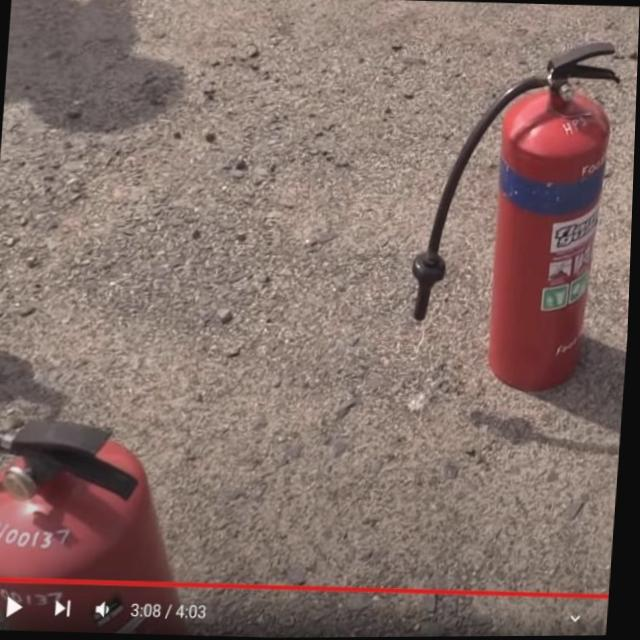FireExtinguisher: (403, 32, 626, 401), (0, 401, 220, 636)
